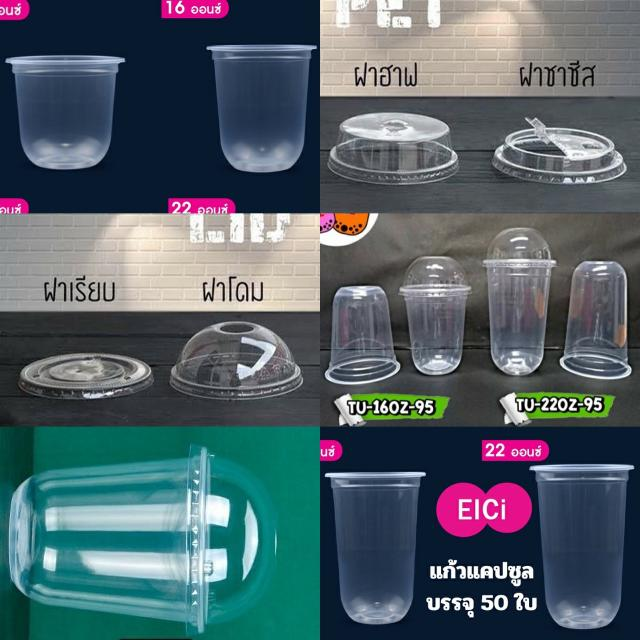Single-Use-Plastic: (9, 445, 275, 634), (530, 465, 633, 628), (325, 471, 425, 623), (206, 45, 316, 172), (6, 55, 125, 170), (483, 228, 555, 375), (170, 321, 303, 400), (328, 112, 459, 185), (493, 118, 625, 184), (559, 261, 632, 379), (399, 256, 470, 374), (325, 286, 400, 384), (19, 354, 154, 399)
